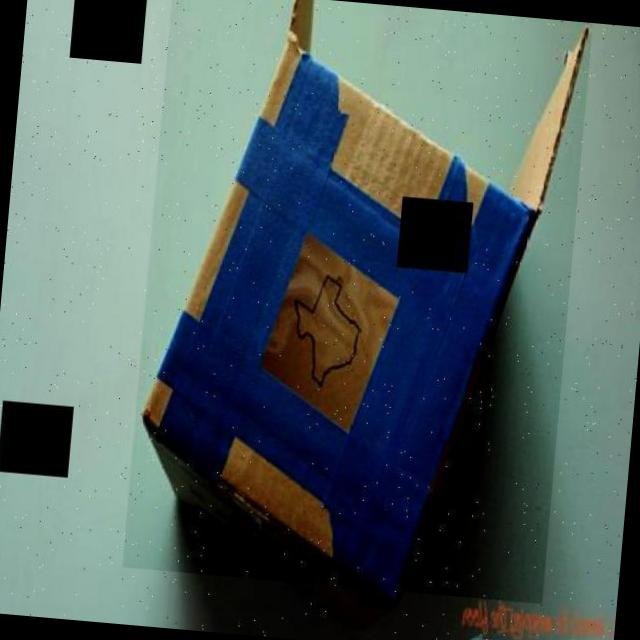box: (121, 0, 592, 603)
